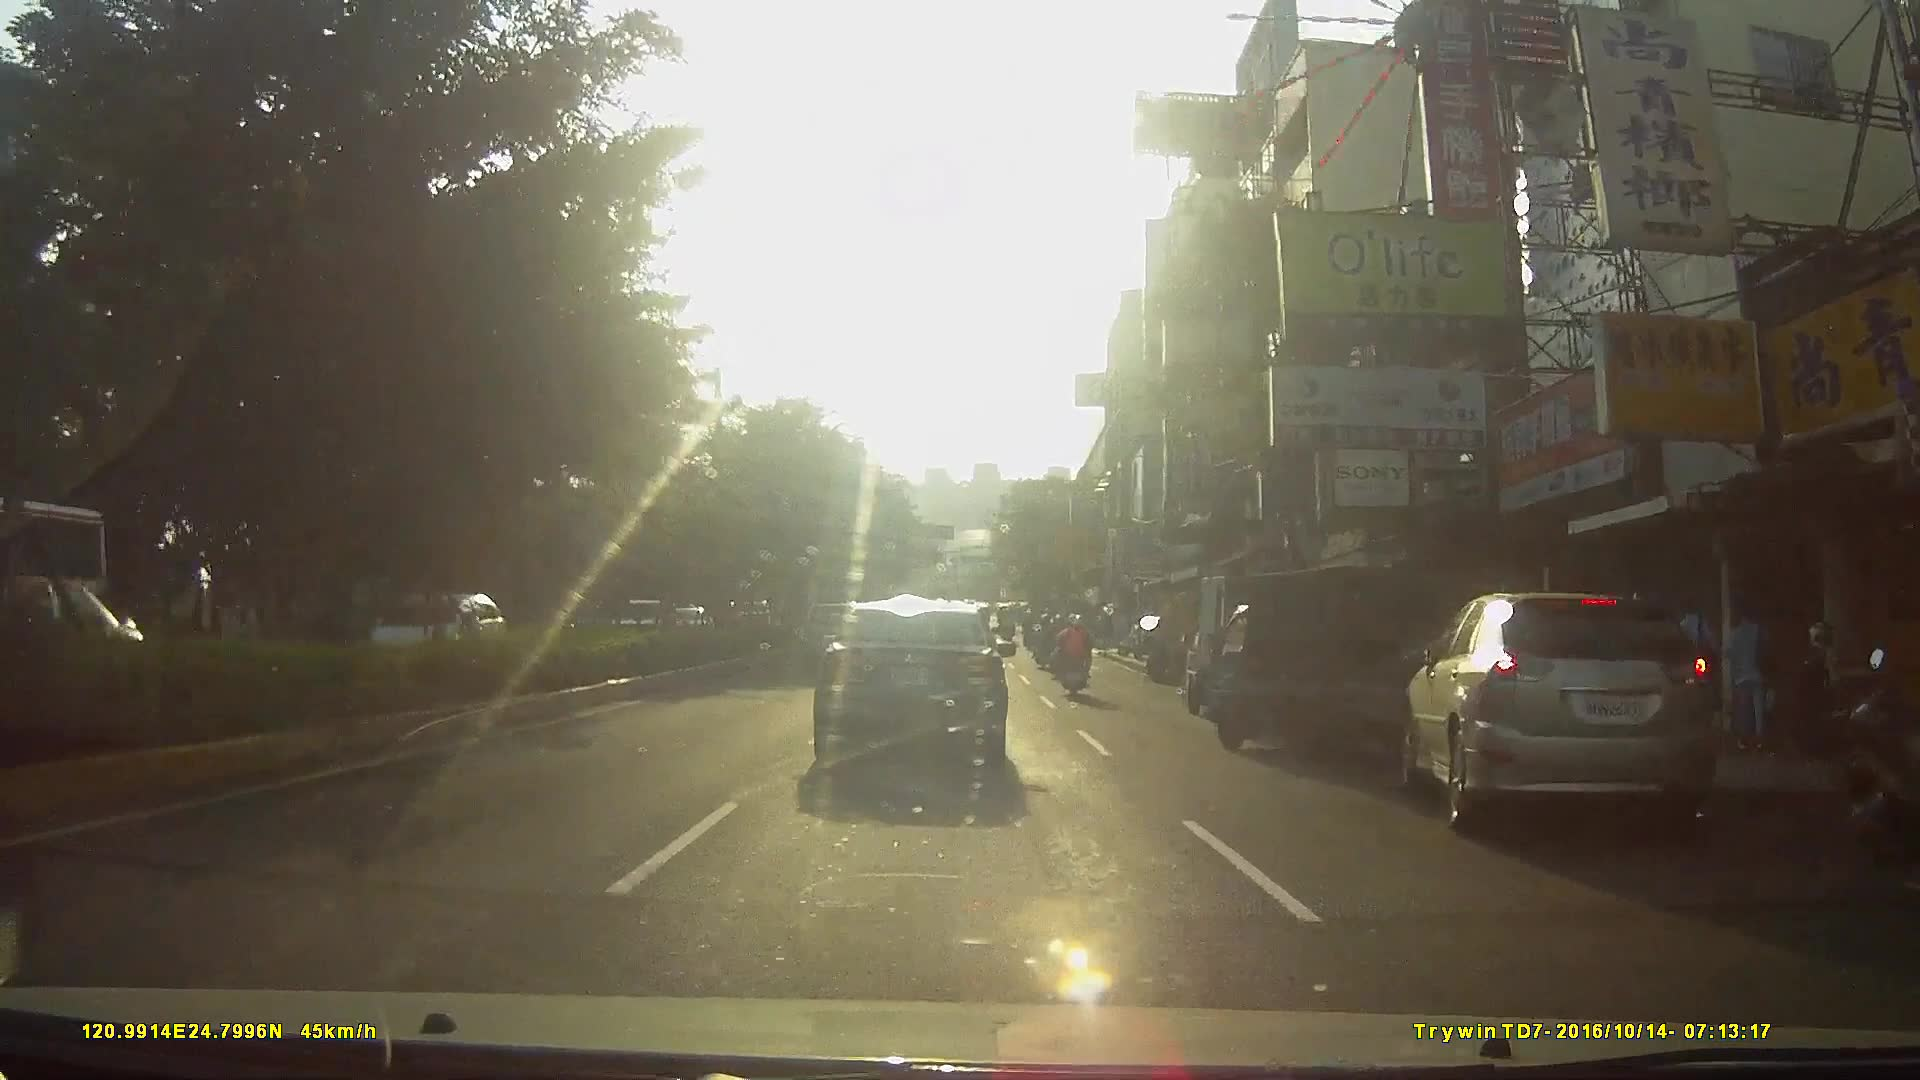pedestrian: (1651, 593, 1715, 754), (1717, 593, 1781, 746)
rider: (1049, 607, 1091, 698), (1031, 608, 1056, 664)
vehicle: (1392, 579, 1764, 856), (1196, 553, 1456, 772), (810, 590, 1028, 779), (1, 496, 127, 683), (361, 588, 511, 691)
